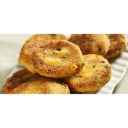cutlet: (33, 41, 84, 78), (20, 36, 70, 73), (77, 54, 111, 94), (11, 76, 70, 94), (71, 33, 110, 55)
